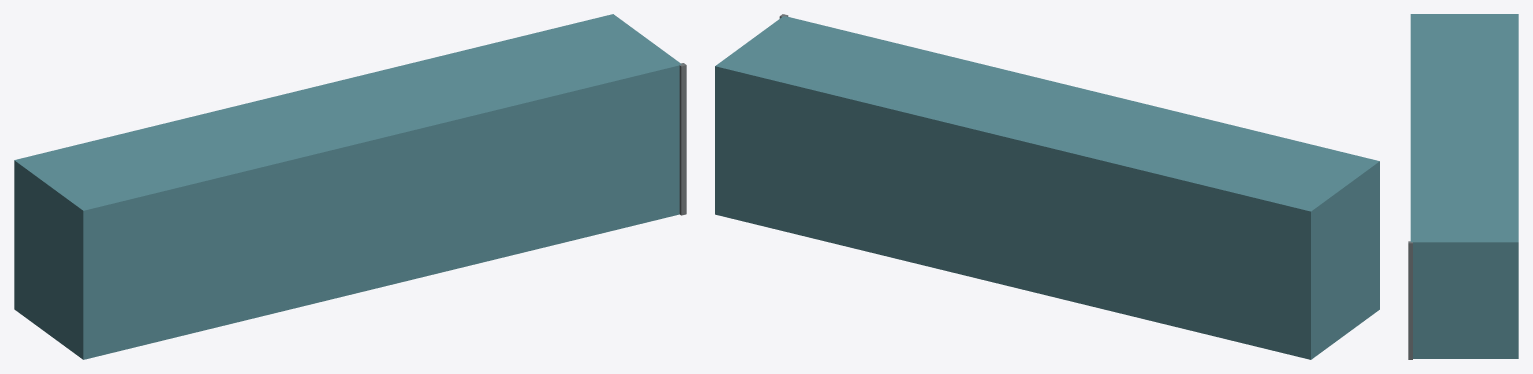
File: container-40hc-lod1.glb
3 renders of one model, left to right at view 1: azimuth 30°, elevation 25°; view 2: azimuth 150°, elevation 25°; view 3: azimuth 270°, elevation 25°, orthographic. The views are drawn at different scales.
Visible parts, largest first — view 1: body, corner; view 2: body; view 3: body, corner.
Part boxes in pixels (left/top/right/bottom): body: left=14, top=14, right=681, bottom=359; corner: left=679, top=63, right=686, bottom=215; body: left=715, top=16, right=1379, bottom=359; body: left=1410, top=14, right=1518, bottom=358; corner: left=1408, top=241, right=1412, bottom=359.
Bounding box in the file's own units: 12.24 × 2.9 × 2.5.
